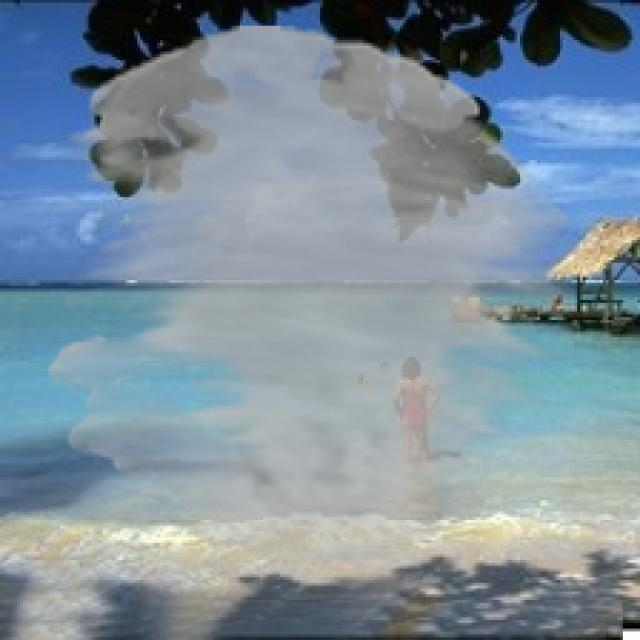smoke: (49, 26, 577, 566)
